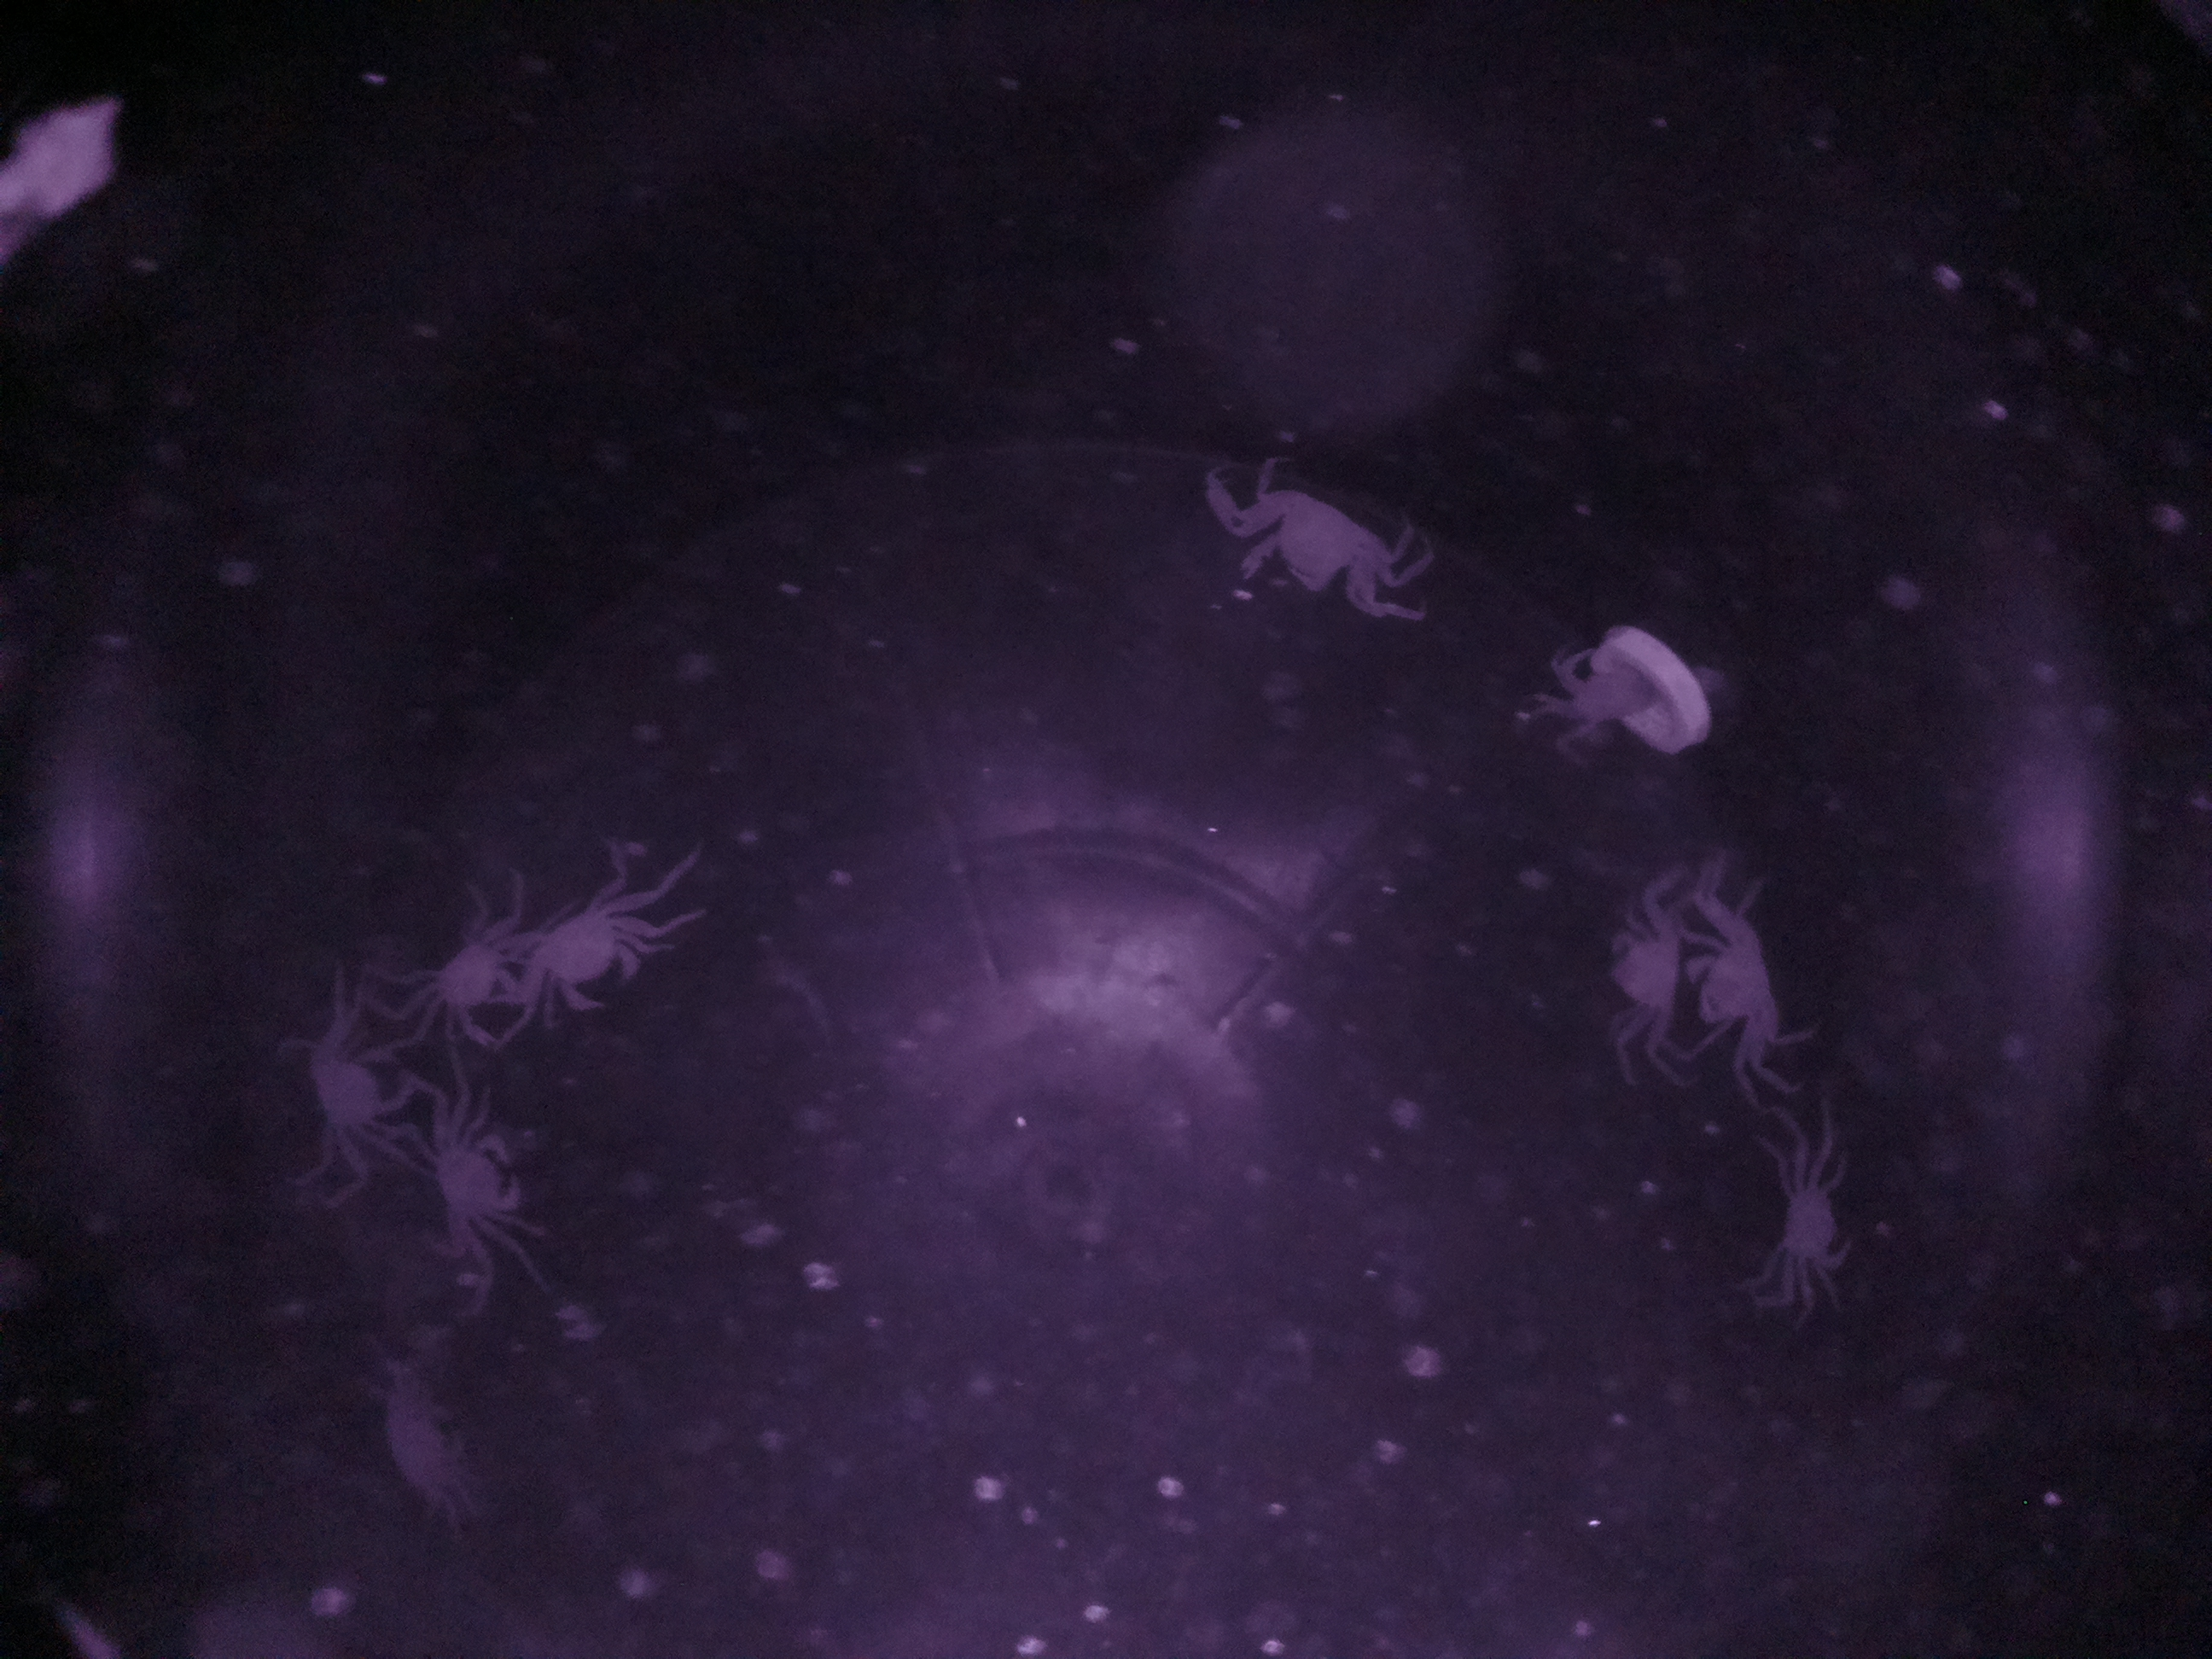Crab: (1686, 824, 1834, 1107), (1205, 446, 1399, 631), (275, 972, 415, 1197), (507, 850, 669, 1042), (1575, 849, 1684, 1121), (409, 1094, 568, 1276), (1766, 1131, 1865, 1328)
